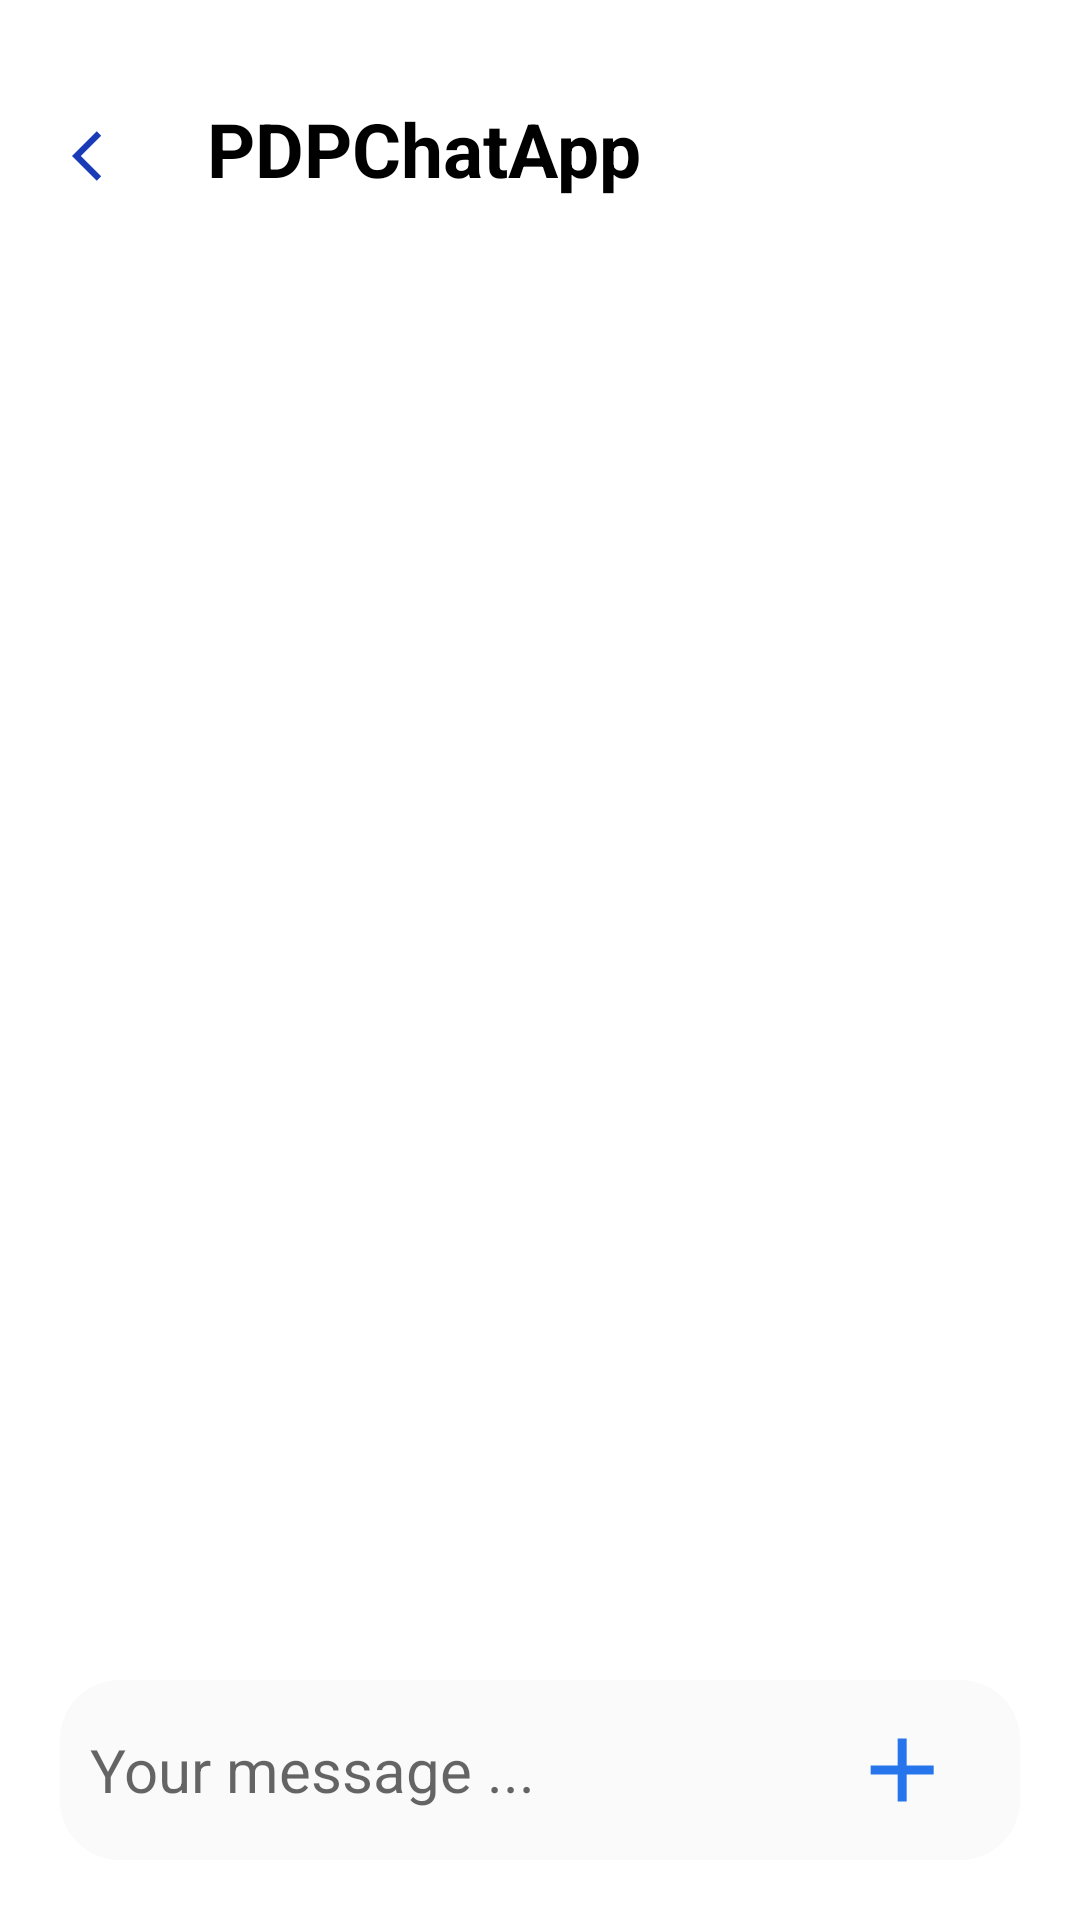

Icons on this 1080*1920 Android screen, each with its box as (x1, y1, x2, y2):
arrow back: (72, 131, 101, 181)
